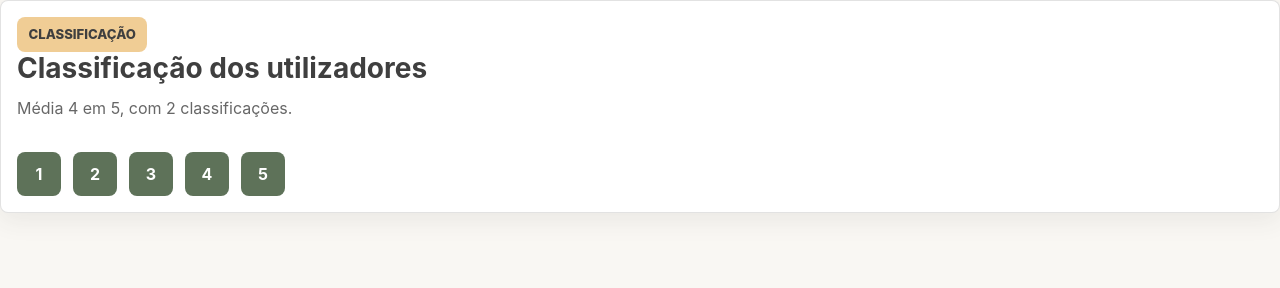
Test: RatingBox › nunca apresenta detalhes de uma falha inesperada
Expected: the text "Média 4 em 5, com 2 classificações." is shown, [17, 98, 292, 118]
Click the button "2".
click(95, 174)  # box [73, 152, 117, 196]
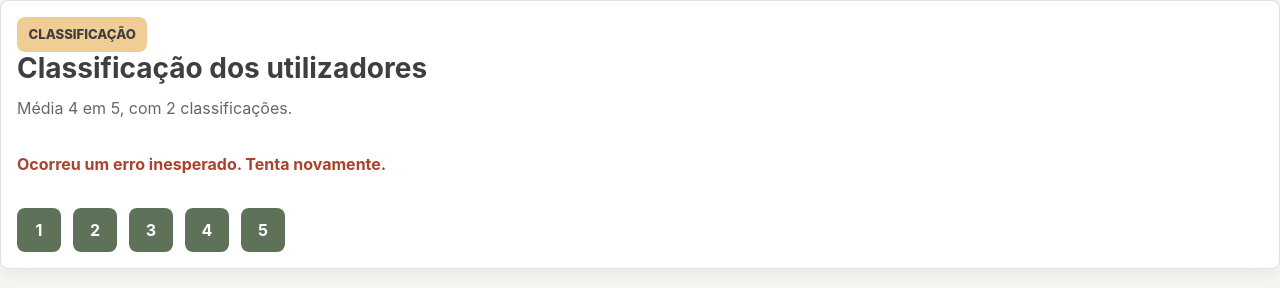
Expected: the message does not show "mongodb", [17, 154, 386, 174]
Now the message reads "Ocorreu um erro inesperado. Tenta novamente.", box [17, 154, 386, 174]
